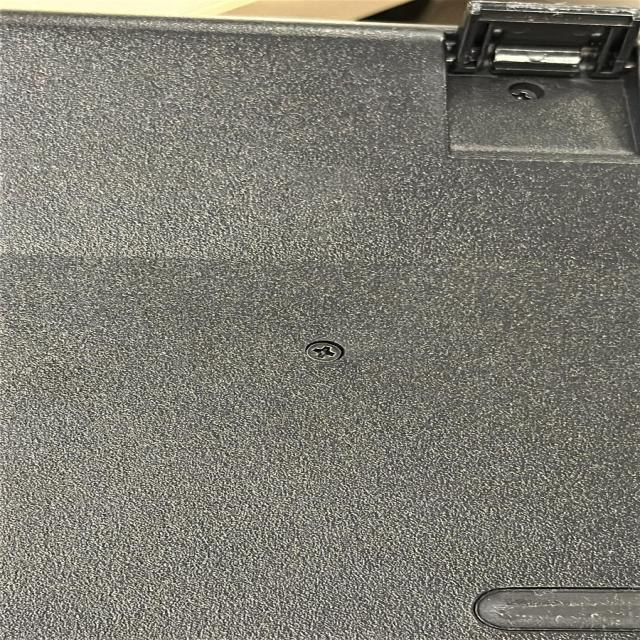Phillips: (297, 339, 348, 368), (494, 82, 544, 105)
